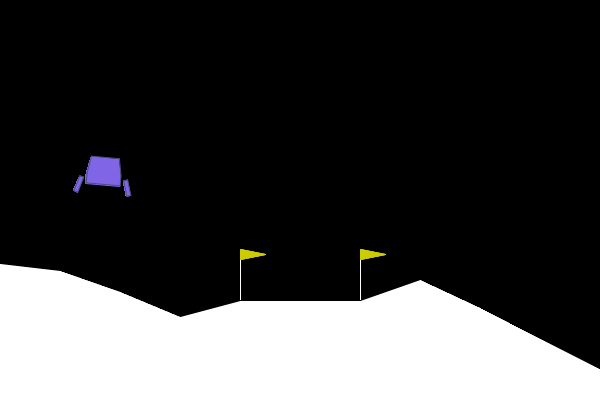lander: (72, 153, 135, 198)
